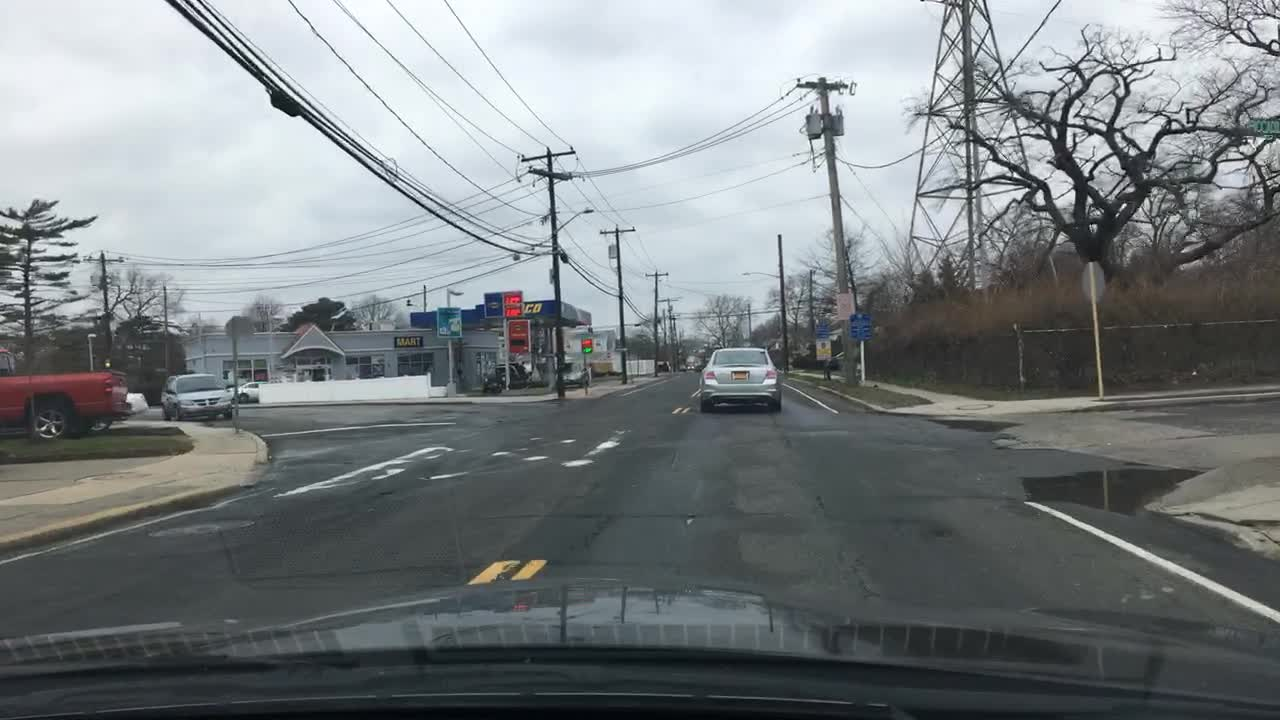car: (697, 345, 784, 413), (162, 372, 234, 419), (230, 377, 269, 407), (559, 360, 591, 383), (122, 389, 147, 414), (682, 359, 698, 369)
traffic sign: (1077, 260, 1106, 305), (850, 311, 869, 338), (812, 338, 832, 362)
truck: (1, 347, 132, 435)
